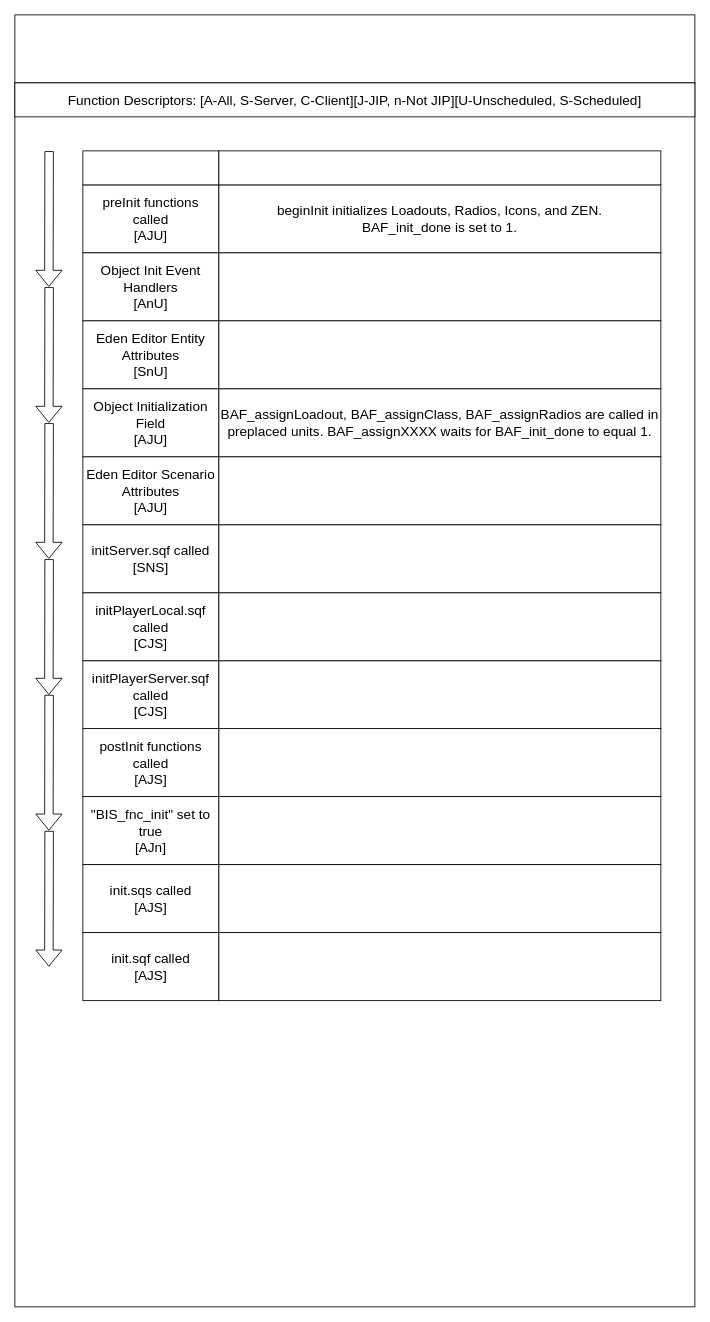
Image size: 710x1322. Some labels were removed from this diagram. The centre of each missing label's shape, as x and y in pixels:
"Arma Init Order" belongs at pixel 150 167.
"Framework Execution Order (MP)" belongs at pixel 354 48.
"Framework Functions Called at Stage" belongs at pixel 439 167.
